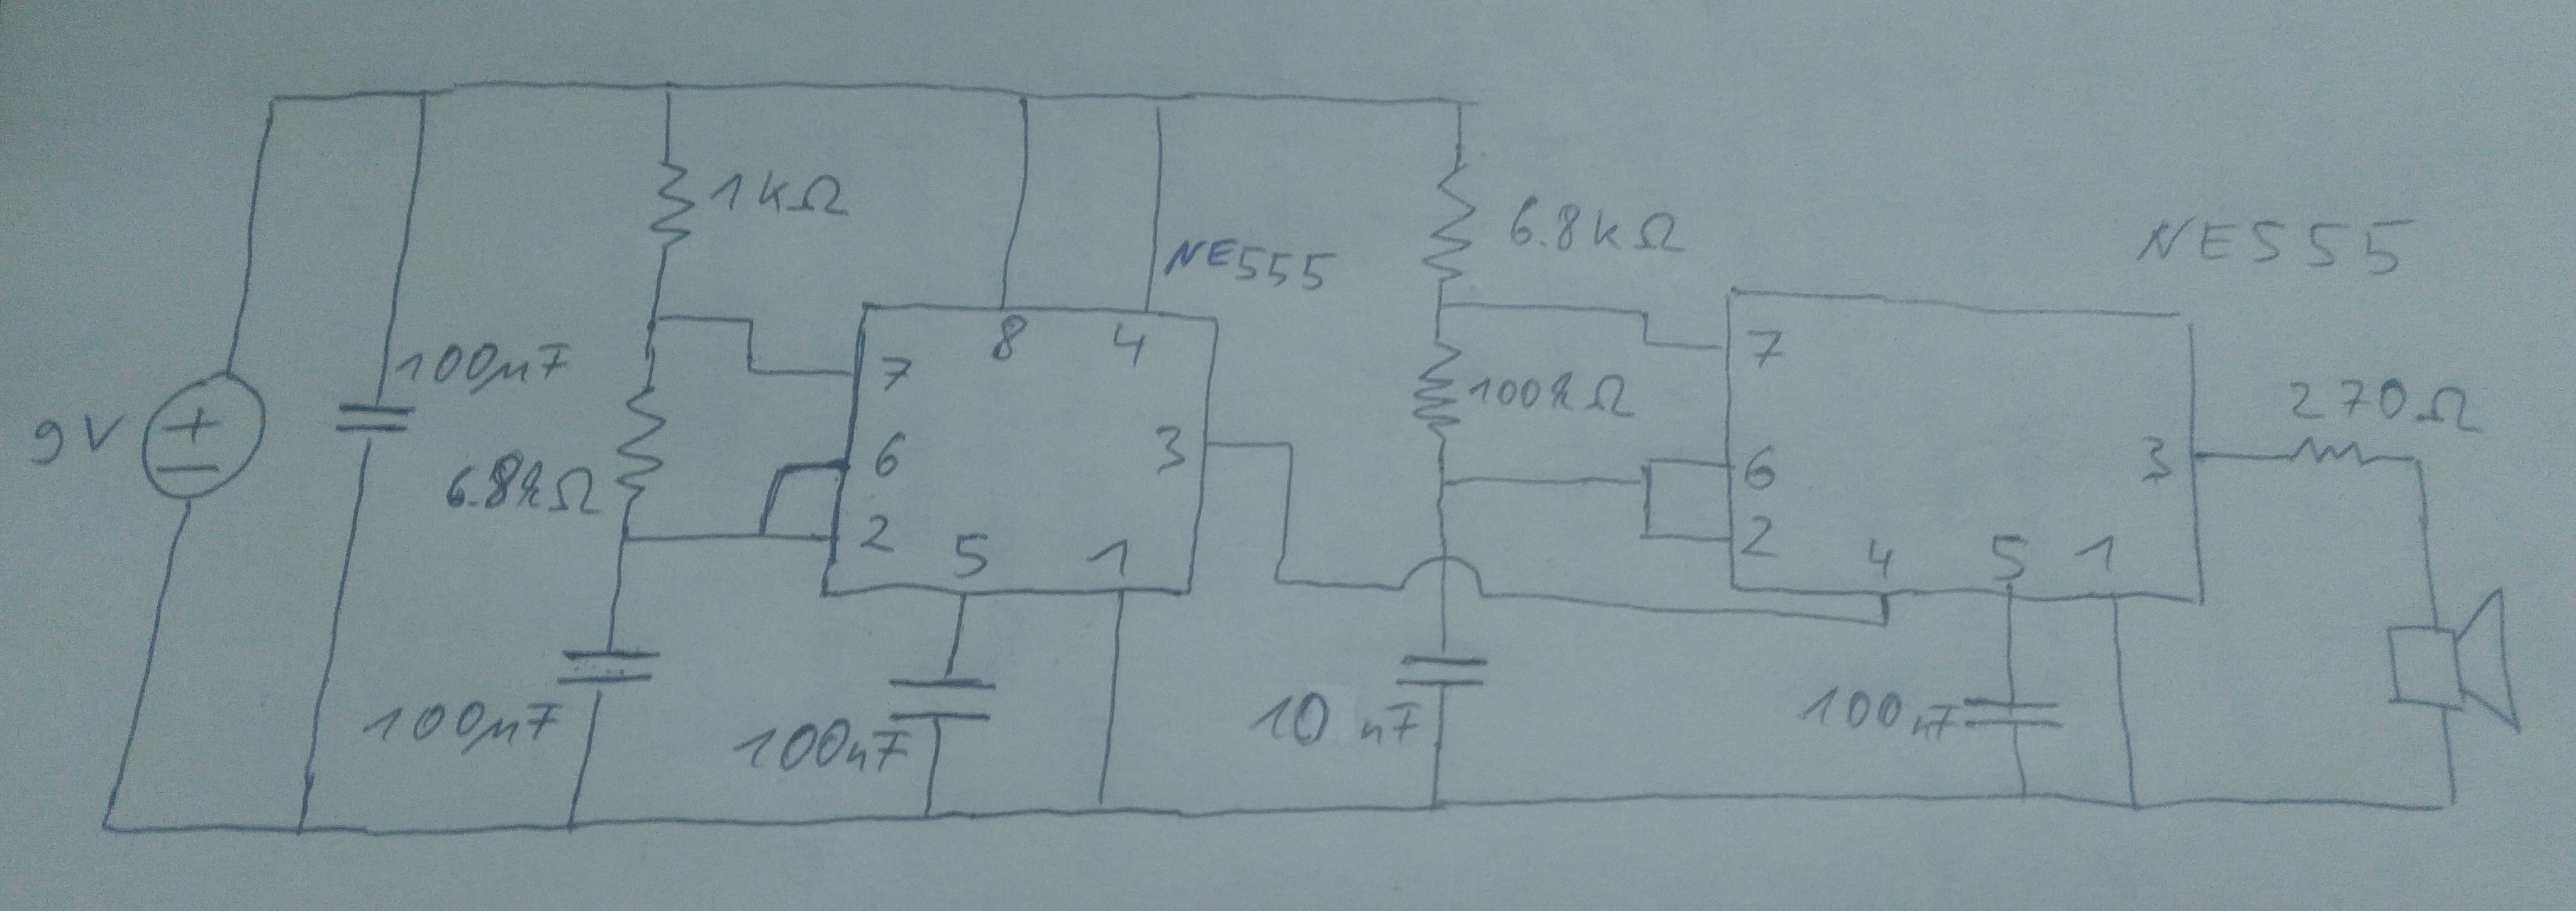capacitor.unpolarized: (881, 673, 1005, 725), (550, 648, 665, 687), (1393, 651, 1493, 692), (325, 400, 419, 439), (1960, 696, 2067, 730)
crossover: (1388, 549, 1490, 612)
integrated_cricuit.ne555: (1722, 283, 2210, 607), (815, 298, 1226, 600)
junction: (2422, 781, 2477, 830), (84, 794, 125, 850), (283, 809, 317, 855), (550, 806, 588, 845), (1441, 89, 1480, 120), (1416, 788, 1451, 822), (2394, 446, 2428, 480), (609, 525, 644, 556), (746, 518, 777, 551), (769, 455, 800, 488), (1084, 788, 1114, 822), (1009, 82, 1038, 115), (2116, 793, 2150, 819), (1628, 321, 1654, 354), (2009, 781, 2042, 807), (1429, 470, 1457, 500), (915, 802, 943, 830), (1873, 607, 1901, 635), (260, 90, 289, 117), (641, 304, 665, 335), (1428, 294, 1454, 321), (409, 84, 437, 109), (1280, 434, 1304, 460), (1143, 89, 1168, 113), (738, 312, 764, 335), (1267, 567, 1291, 590), (1631, 304, 1654, 329), (1633, 469, 1656, 493), (1638, 449, 1661, 472), (654, 76, 678, 97), (1636, 526, 1658, 546), (741, 360, 759, 382)
resistor: (1416, 158, 1482, 294), (611, 382, 670, 502), (1410, 334, 1467, 446), (647, 155, 700, 263), (2282, 432, 2374, 472)
speaker: (2380, 580, 2525, 737)
text: (2132, 212, 2417, 276), (361, 697, 567, 758), (2284, 375, 2484, 434), (391, 337, 577, 400), (1506, 192, 1687, 255), (445, 449, 605, 520), (1245, 689, 1424, 748), (1161, 234, 1339, 293), (731, 717, 913, 775), (1796, 684, 1963, 745), (1467, 372, 1638, 421), (710, 166, 846, 217), (26, 406, 130, 472), (1988, 531, 2032, 584), (1738, 511, 1784, 561), (1741, 442, 1781, 498), (2072, 531, 2118, 579), (991, 311, 1028, 368), (951, 528, 991, 582), (1107, 319, 1148, 370), (2136, 432, 2175, 485), (1745, 326, 1787, 372), (872, 429, 908, 482), (1084, 536, 1132, 576), (1153, 423, 1188, 477), (1865, 534, 1899, 584), (858, 513, 899, 554), (879, 350, 915, 395)
voltage.dc: (136, 367, 269, 506)
